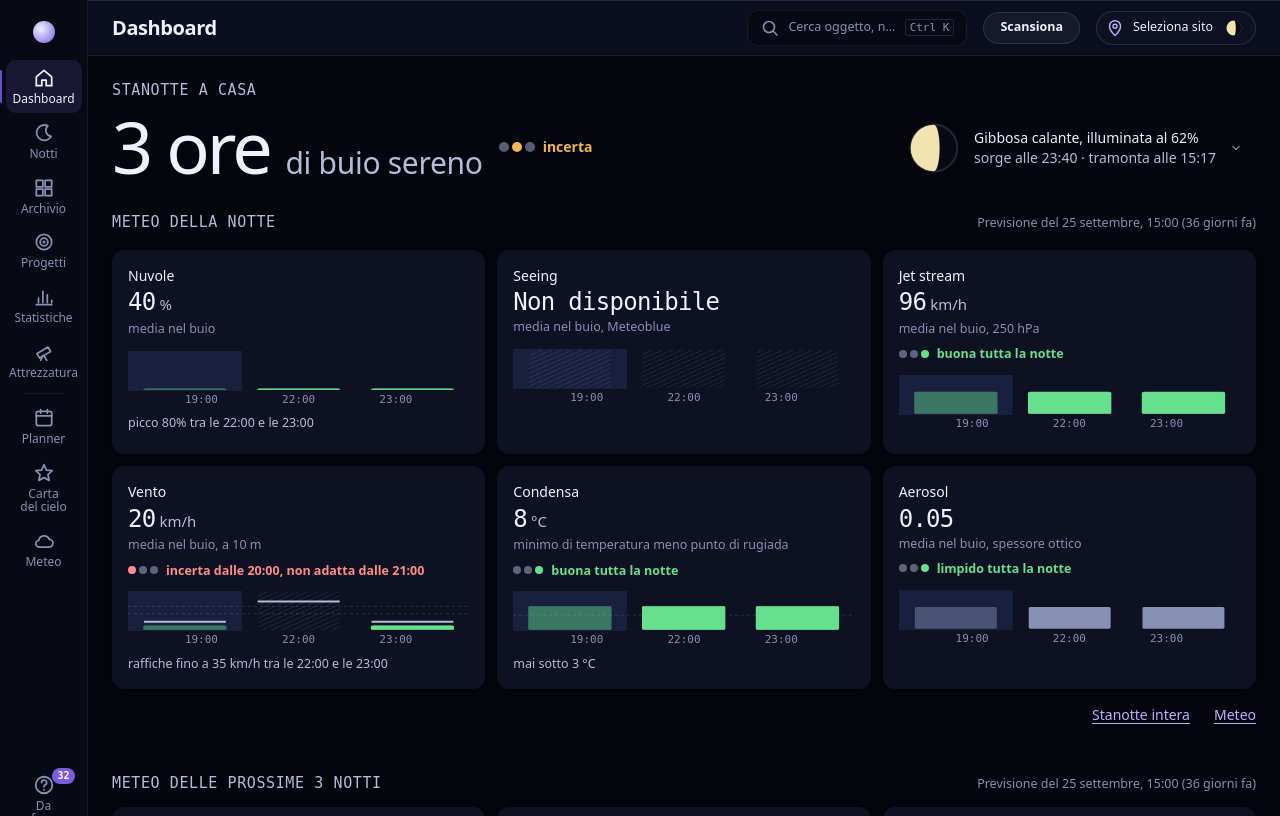
Test: il dettaglio della Luna › chiudi lo richiude e torna sulla Luna
Click the button "Gibbosa calante, illuminata al 62%". click: (1075, 148)
box: x1=894 y1=112 x2=1256 y2=184
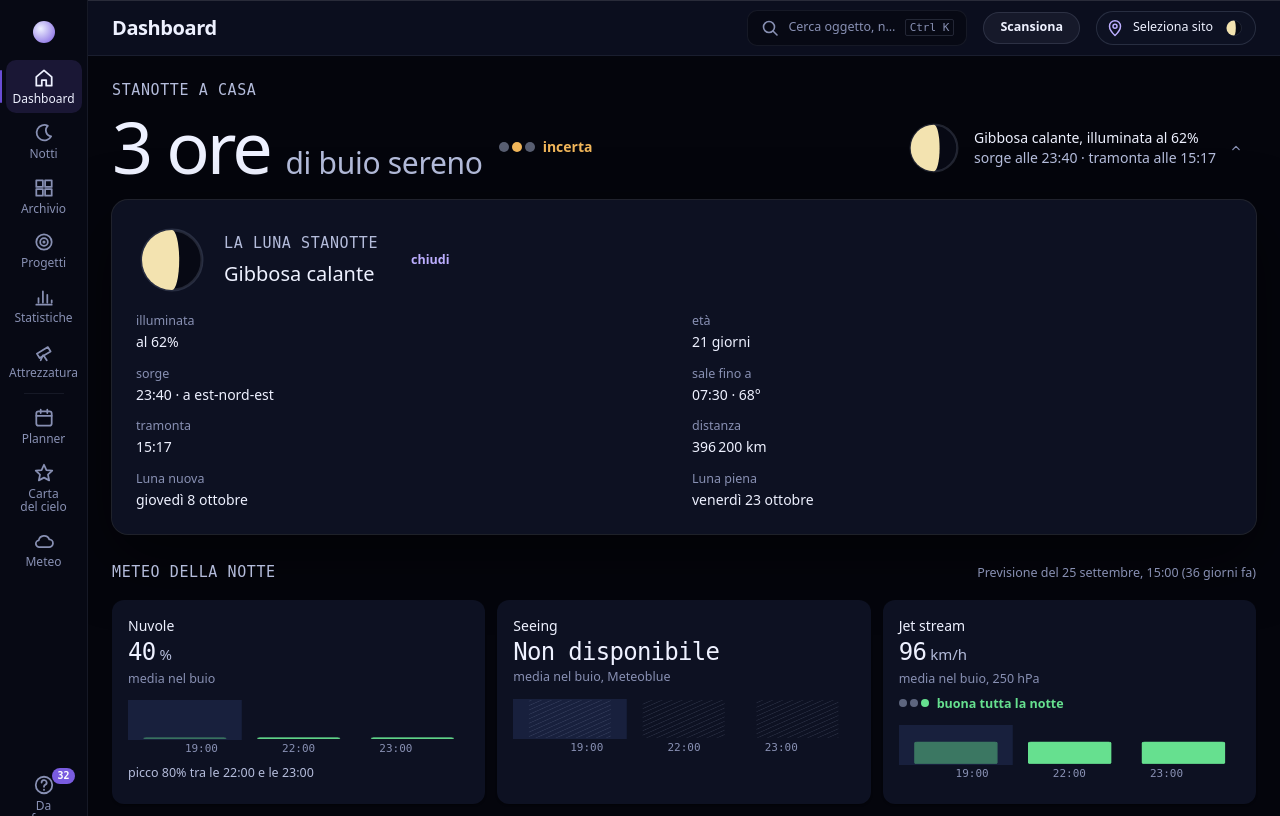
Click the button "chiudi". click: (430, 260)
box: x1=394 y1=244 x2=466 y2=276
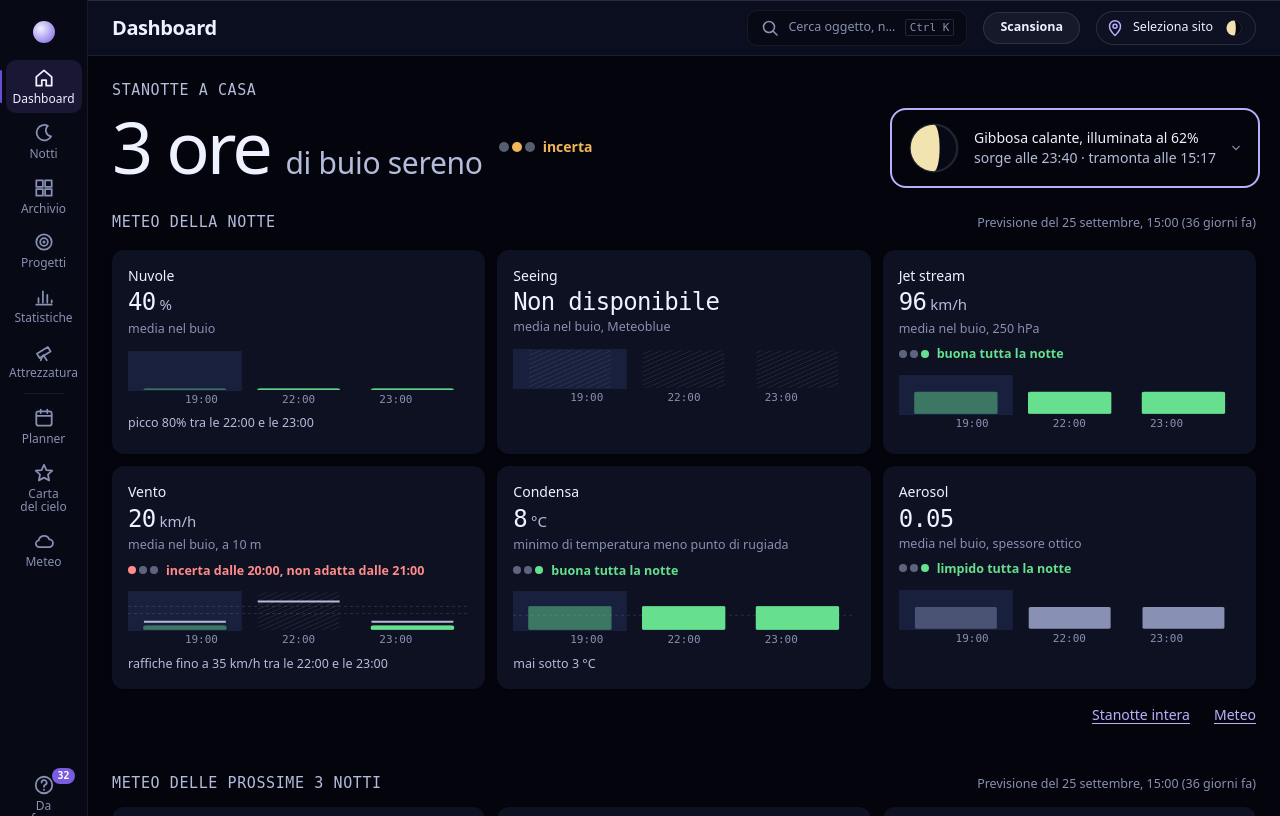
Check: the button "Gibbosa calante, illuminata al 62%" is shown, box x1=894 y1=112 x2=1256 y2=184
Check: the text "la Luna stanotte" is gone
